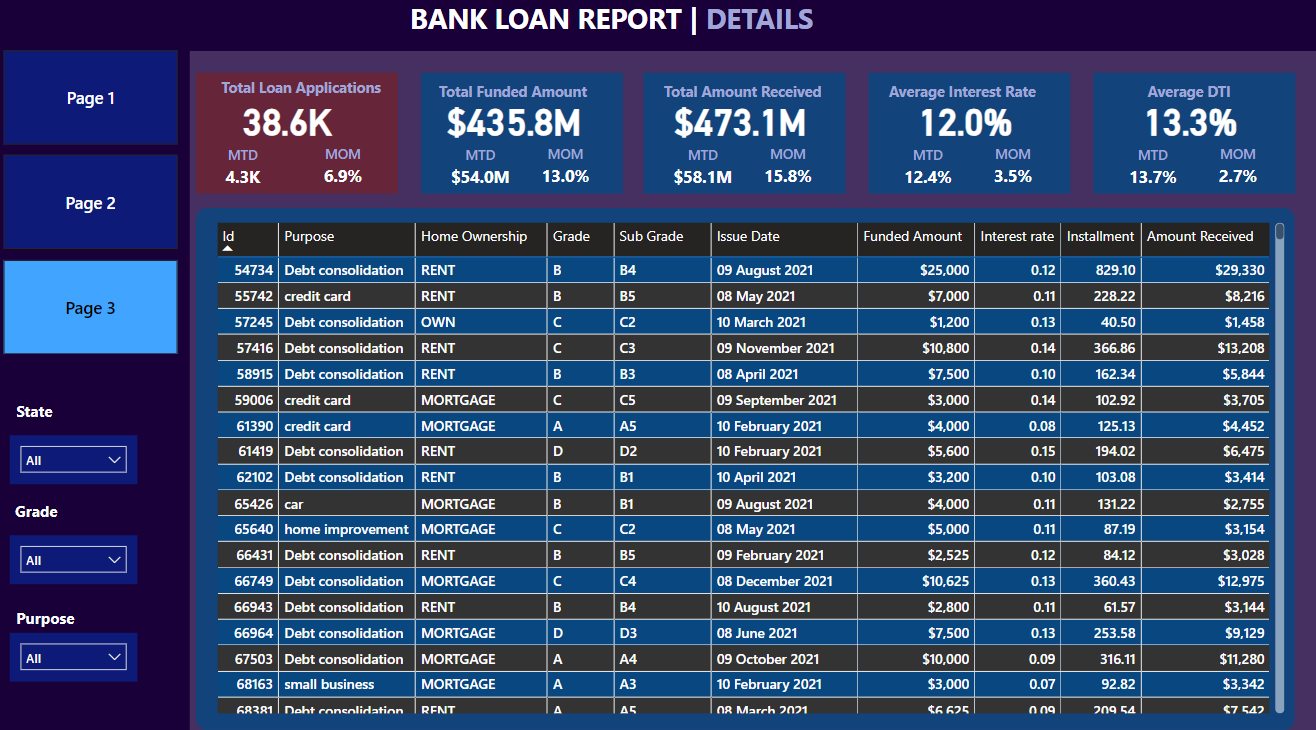

This screenshot's page, from the dashboard's own definition file:
{"tool":"powerbi","page":{"name":"Page 3","canvas":[1280,720],"ordinal":2},"visuals":[{"type":"shape","box":[0,54.3,191.8,666],"z":0},{"type":"shape","box":[0,0,1280.3,55],"z":1000},{"type":"textbox","box":[392.5,0,448.7,54.9],"z":2000},{"type":"shape","box":[197.6,76,194.9,116.6],"z":3000,"group":"g1"},{"type":"shape","box":[415.5,76,194.9,116.6],"z":3000,"group":"g2"},{"type":"shape","box":[629.1,76,194.9,116.6],"z":3000,"group":"g3"},{"type":"shape","box":[846.2,76,194.9,116.6],"z":3000,"group":"g4"},{"type":"shape","box":[1063.4,76,194.9,116.6],"z":3000,"group":"g5"},{"type":"shape","box":[197.9,206.3,1060.5,504.3],"z":3000},{"type":"group","id":"g1","title":"Group 1","box":[179.3,76,213.2,117.3],"z":4000},{"type":"card","fields":{"Values":["bank loan data.Total Amount Received"]},"box":[618.7,90,208.7,60.3],"z":4000,"group":"g3"},{"type":"card","fields":{"Values":["bank loan data.Avg Interest Rate"]},"box":[835.8,90,208.7,60.3],"z":4000,"group":"g4"},{"type":"card","fields":{"Values":["bank loan data.Average DTI"]},"box":[1053,90,208.7,60.3],"z":4000,"group":"g5"},{"type":"card","fields":{"Values":["bank loan data.Total Loan Applications"]},"box":[179.3,96.3,212.3,48.3],"z":4000,"group":"g1"},{"type":"card","fields":{"Values":["bank loan data.Total Funded Amount"]},"box":[400.9,96.5,208.7,48.3],"z":4000,"group":"g2"},{"type":"group","id":"g2","title":"Group 1","box":[400.9,76,209.4,116.6],"z":5000},{"type":"textbox","box":[217.2,76.3,174.9,36.2],"z":5000,"group":"g1"},{"type":"textbox","box":[644.5,79.2,174.9,33.8],"z":5000,"group":"g3"},{"type":"textbox","box":[861.6,79.2,174.9,33.8],"z":5000,"group":"g4"},{"type":"textbox","box":[1110.9,79.4,113.4,33.8],"z":5000,"group":"g5"},{"type":"textbox","box":[427.5,79.6,174.9,36.2],"z":5000,"group":"g2"},{"type":"group","id":"g3","title":"Group 1","box":[618.7,76,208.7,117],"z":6000},{"type":"card","title":"MTD","fields":{"Values":["bank loan data.MTD Funded Amount"]},"box":[437.4,145.5,71.2,47.1],"z":6000,"group":"g2"},{"type":"card","title":"MTD","fields":{"Values":["bank loan data.MTD Amount Received"]},"box":[651.1,145.5,71.2,47.1],"z":6000,"group":"g3"},{"type":"card","title":"MTD","fields":{"Values":["bank loan data.MTD Average Interest Rate"]},"box":[868.2,145.5,71.2,47.1],"z":6000,"group":"g4"},{"type":"card","title":"MTD","fields":{"Values":["bank loan data.MTD Average DTI"]},"box":[1085.4,145.5,71.2,47.1],"z":6000,"group":"g5"},{"type":"card","title":"MTD","fields":{"Values":["bank loan data.MTD Loan Applications"]},"box":[217.2,146.3,51.9,47.1],"z":6000,"group":"g1"},{"type":"group","id":"g4","title":"Group 1","box":[835.8,76,208.7,117],"z":7000},{"type":"card","title":"MOM","fields":{"Values":["bank loan data.MOM Funded Amount"]},"box":[525.5,144.3,59.1,48.3],"z":7000,"group":"g2"},{"type":"card","title":"MOM","fields":{"Values":["bank loan data.MOM Amount Received"]},"box":[739.2,144.3,59.1,48.3],"z":7000,"group":"g3"},{"type":"card","title":"MOM","fields":{"Values":["bank loan data.MOM Average Interest Rate"]},"box":[956.3,144.3,59.1,48.3],"z":7000,"group":"g4"},{"type":"card","title":"MOM","fields":{"Values":["bank loan data.MOM Average DTI"]},"box":[1173.5,144.3,59.1,48.3],"z":7000,"group":"g5"},{"type":"card","title":"MOM","fields":{"Values":["bank loan data.MOM Loan Applications"]},"box":[313.7,145.1,51.9,48.3],"z":7000,"group":"g1"},{"type":"group","id":"g5","title":"Group 1","box":[1053,76,208.7,116.6],"z":8000},{"type":"slicer","fields":{"Values":["bank loan data.address_state"]},"box":[18.1,425.9,123.1,47.1],"z":9000},{"type":"textbox","box":[19.3,387.3,121.9,37.4],"z":10000},{"type":"slicer","fields":{"Values":["bank loan data.grade"]},"box":[18.1,522.4,123.1,47.1],"z":11000},{"type":"textbox","box":[18.1,483.8,121.9,37.4],"z":12000},{"type":"slicer","fields":{"Values":["bank loan data.purpose"]},"box":[18.1,616.5,123.1,47.1],"z":13000},{"type":"textbox","box":[19.3,587.5,121.9,37.4],"z":14000},{"type":"tableEx","fields":{"Values":["bank loan data.id","bank loan data.purpose","bank loan data.home_ownership","bank loan data.grade","bank loan data.sub_grade","bank loan data.issue_date","bank loan data.Total Funded Amount","Sum(bank loan data.int_rate)","Sum(bank loan data.installment)","bank loan data.Total Amount Received"]},"box":[212.3,216,1041.2,483.8],"z":15000},{"type":"pageNavigator","box":[12.1,54.3,168.9,295.6],"z":16000}]}

Visuals, with their boxes in screenshot pixels (x1, y1, x2, y2), scaled from the page's 1280x720 canvas onto the 1316x730 screenshot:
shape: [x1=0, y1=55, x2=197, y2=729]
shape: [x1=0, y1=0, x2=1315, y2=56]
textbox: [x1=404, y1=0, x2=865, y2=56]
shape: [x1=203, y1=77, x2=404, y2=195]
shape: [x1=427, y1=77, x2=628, y2=195]
shape: [x1=647, y1=77, x2=847, y2=195]
shape: [x1=870, y1=77, x2=1070, y2=195]
shape: [x1=1093, y1=77, x2=1294, y2=195]
shape: [x1=203, y1=209, x2=1294, y2=720]
"Group 1" group: [x1=184, y1=77, x2=404, y2=196]
card - bank loan data.Total Amount Received: [x1=636, y1=91, x2=851, y2=152]
card - bank loan data.Avg Interest Rate: [x1=859, y1=91, x2=1074, y2=152]
card - bank loan data.Average DTI: [x1=1083, y1=91, x2=1297, y2=152]
card - bank loan data.Total Loan Applications: [x1=184, y1=98, x2=403, y2=147]
card - bank loan data.Total Funded Amount: [x1=412, y1=98, x2=627, y2=147]
"Group 1" group: [x1=412, y1=77, x2=627, y2=195]
textbox: [x1=223, y1=77, x2=403, y2=114]
textbox: [x1=663, y1=80, x2=842, y2=115]
textbox: [x1=886, y1=80, x2=1066, y2=115]
textbox: [x1=1142, y1=81, x2=1259, y2=115]
textbox: [x1=440, y1=81, x2=619, y2=117]
"Group 1" group: [x1=636, y1=77, x2=851, y2=196]
"MTD" card: [x1=450, y1=148, x2=523, y2=195]
"MTD" card: [x1=669, y1=148, x2=743, y2=195]
"MTD" card: [x1=893, y1=148, x2=966, y2=195]
"MTD" card: [x1=1116, y1=148, x2=1189, y2=195]
"MTD" card: [x1=223, y1=148, x2=277, y2=196]
"Group 1" group: [x1=859, y1=77, x2=1074, y2=196]
"MOM" card: [x1=540, y1=146, x2=601, y2=195]
"MOM" card: [x1=760, y1=146, x2=821, y2=195]
"MOM" card: [x1=983, y1=146, x2=1044, y2=195]
"MOM" card: [x1=1207, y1=146, x2=1267, y2=195]
"MOM" card: [x1=323, y1=147, x2=376, y2=196]
"Group 1" group: [x1=1083, y1=77, x2=1297, y2=195]
slicer - bank loan data.address_state: [x1=19, y1=432, x2=145, y2=480]
textbox: [x1=20, y1=393, x2=145, y2=431]
slicer - bank loan data.grade: [x1=19, y1=530, x2=145, y2=577]
textbox: [x1=19, y1=491, x2=144, y2=528]
slicer - bank loan data.purpose: [x1=19, y1=625, x2=145, y2=673]
textbox: [x1=20, y1=596, x2=145, y2=634]
tableEx - bank loan data.id x bank loan data.purpose: [x1=218, y1=219, x2=1289, y2=710]
pageNavigator: [x1=12, y1=55, x2=186, y2=355]
